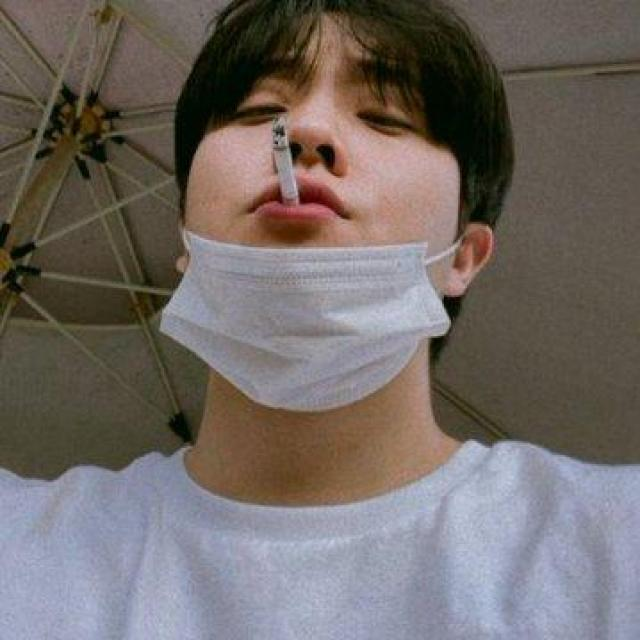rokok: (270, 120, 300, 206)
